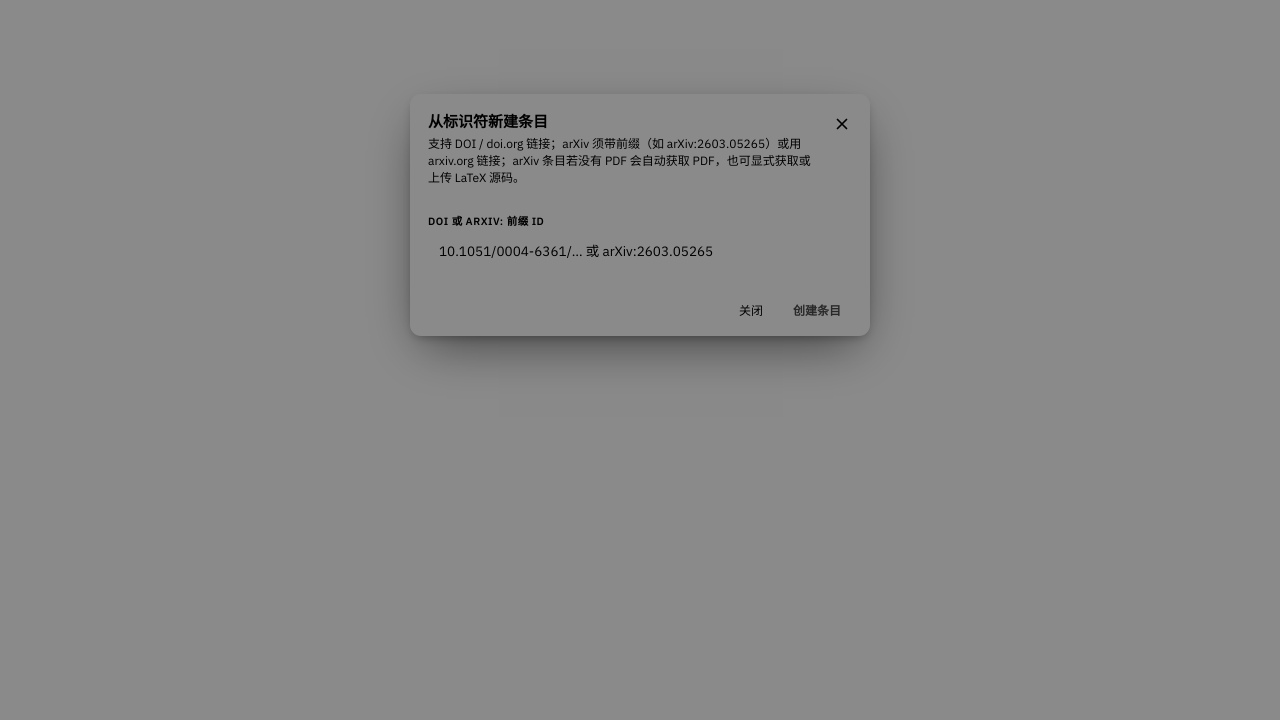
identifier dialog › an arXiv id (any version, prefix or URL) is looked up by its arXiv id; an arXiv DataCite DOI too
Type "arXiv:1804.09378v2" into the field with placeholder "10.1051/0004-6361/… 或 arXiv:2603.05265" at (640, 251), box top-left (428, 234), bottom-right (852, 268)
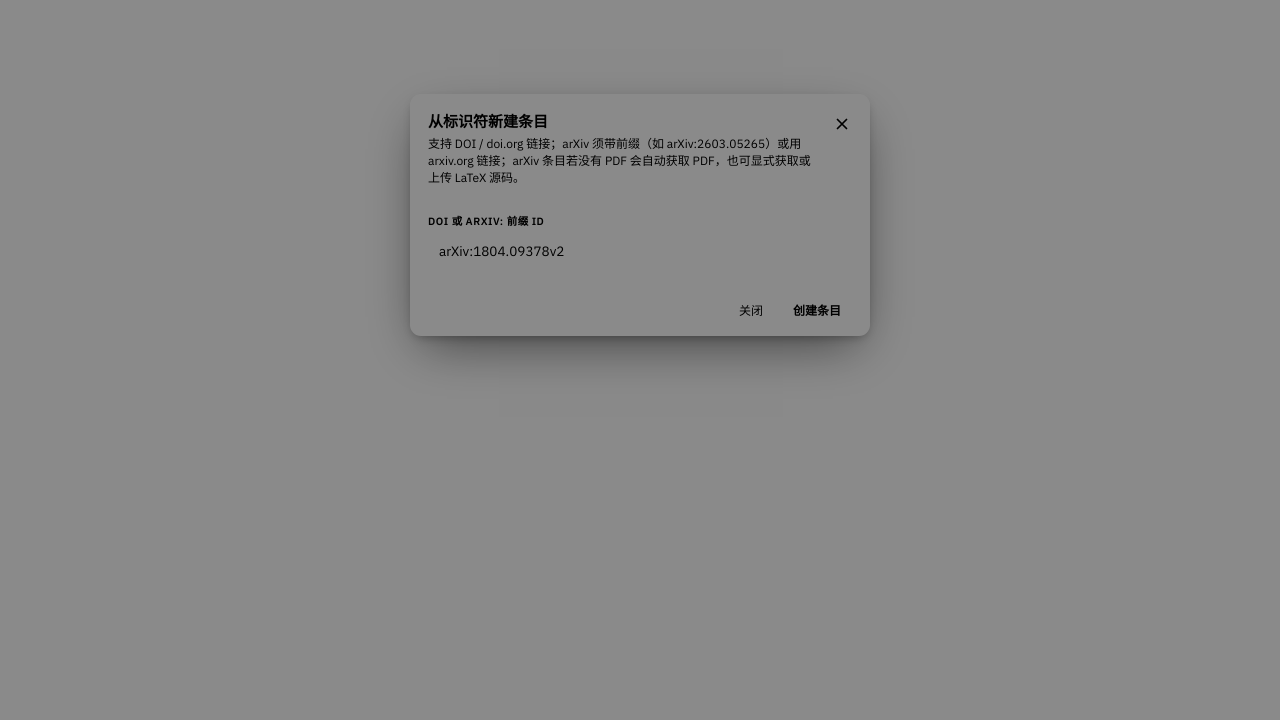
Click the button "创建条目" at (817, 310), box top-left (782, 296), bottom-right (852, 324)
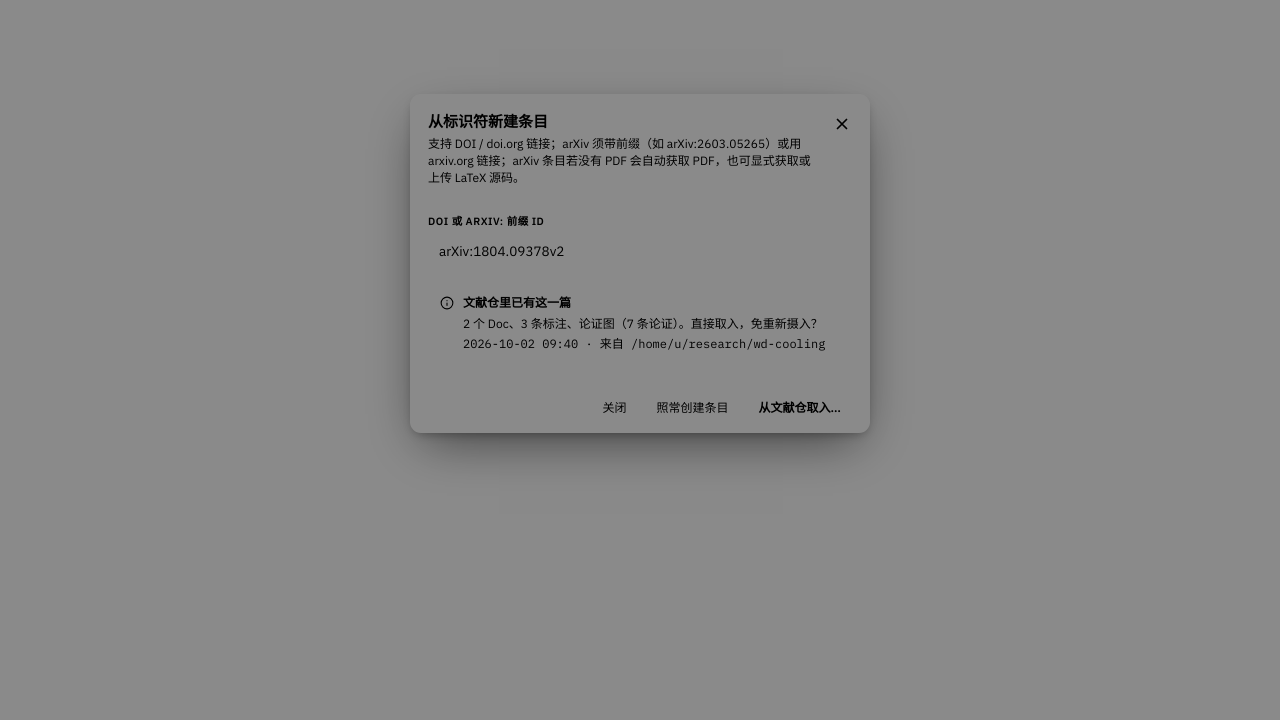
Now the message is shown, box top-left (428, 282), bottom-right (852, 365)
